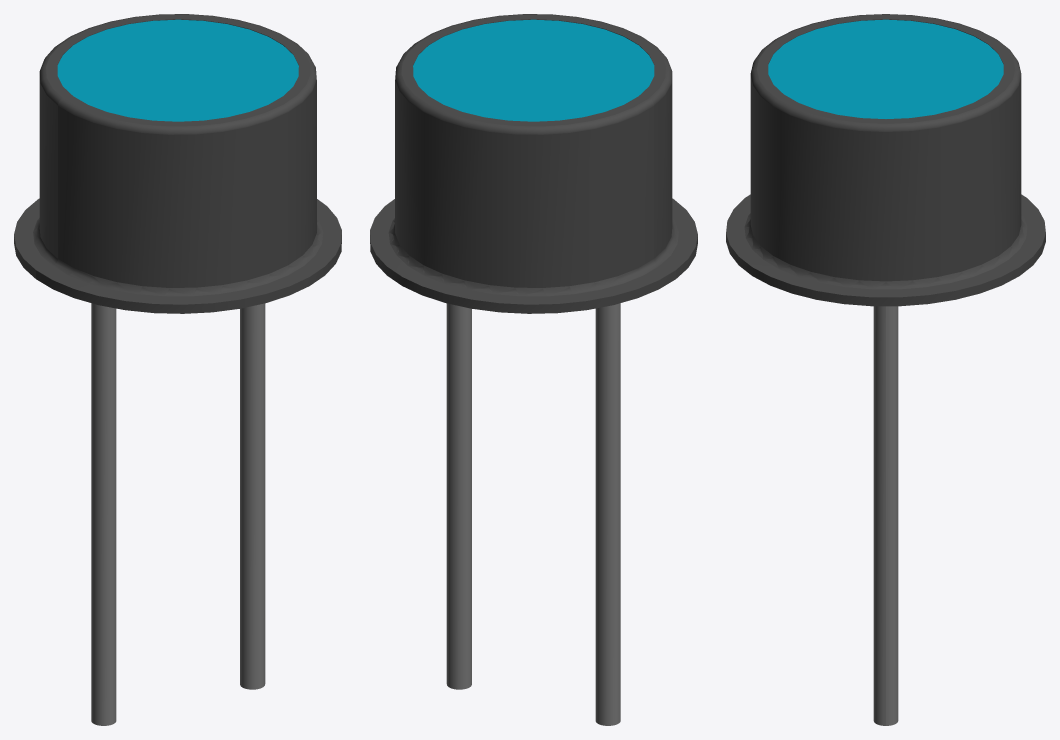
The model's file is kc-r_ldr_d6.4mm_p3.4mm_vertical.glb.
3 views of the same model, side by side, from view 1: azimuth 30°, elevation 25°; view 2: azimuth 150°, elevation 25°; view 3: azimuth 270°, elevation 25° (orthographic). The views are drawn at different scales.
Parts seen in each view (by area): view 1: 0.08333333333333333_0.08333333333333333_0.08333333333333333_, 0.25_0.25_0.25_0, 0_0.3333333333333333_0.5_0; view 2: 0.08333333333333333_0.08333333333333333_0.08333333333333333_, 0.25_0.25_0.25_0, 0_0.3333333333333333_0.5_0; view 3: 0.08333333333333333_0.08333333333333333_0.08333333333333333_, 0_0.3333333333333333_0.5_0, 0.25_0.25_0.25_0.
Boxes of the visible parts, <box> form: 0.08333333333333333_0.08333333333333333_0.08333333333333333_: <box>14,14,341,313</box>; 0.25_0.25_0.25_0: <box>91,303,265,725</box>; 0_0.3333333333333333_0.5_0: <box>57,19,298,121</box>; 0.08333333333333333_0.08333333333333333_0.08333333333333333_: <box>370,14,697,313</box>; 0.25_0.25_0.25_0: <box>446,303,620,725</box>; 0_0.3333333333333333_0.5_0: <box>413,19,654,121</box>; 0.08333333333333333_0.08333333333333333_0.08333333333333333_: <box>726,14,1045,306</box>; 0_0.3333333333333333_0.5_0: <box>768,19,1003,118</box>; 0.25_0.25_0.25_0: <box>873,306,898,725</box>.
Size of the model in its own units: 0.6487 by 1.38 by 0.6493.
